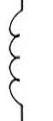inductor: (7, 3, 29, 108)
